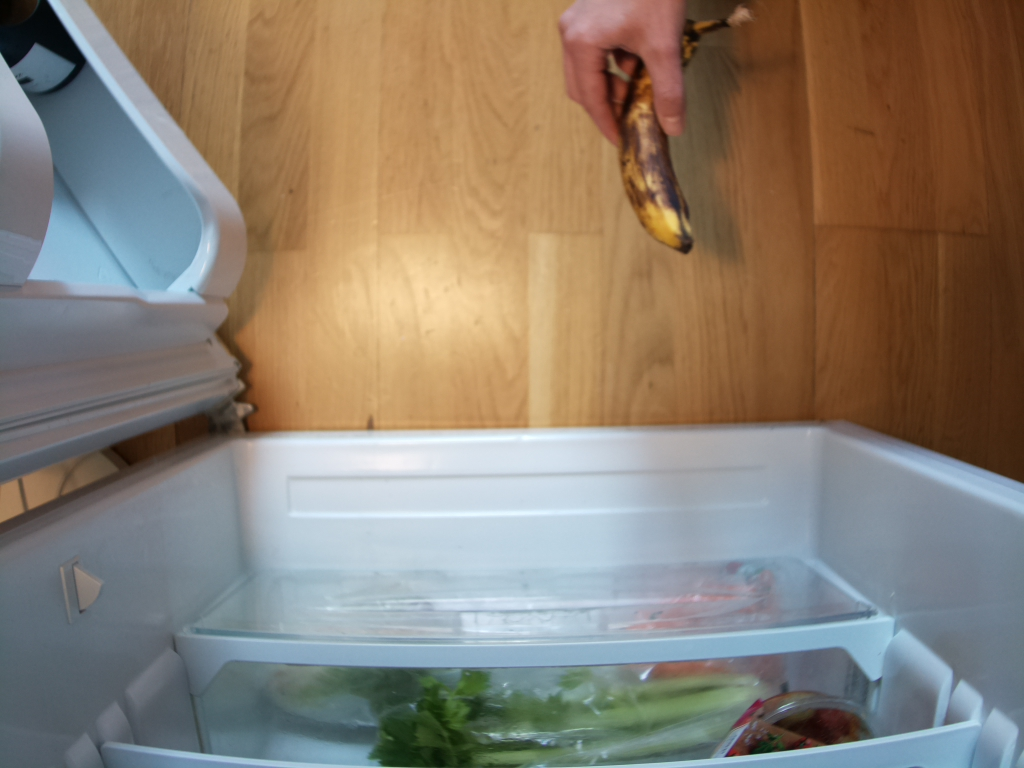banana-overripe: (622, 5, 761, 256)
